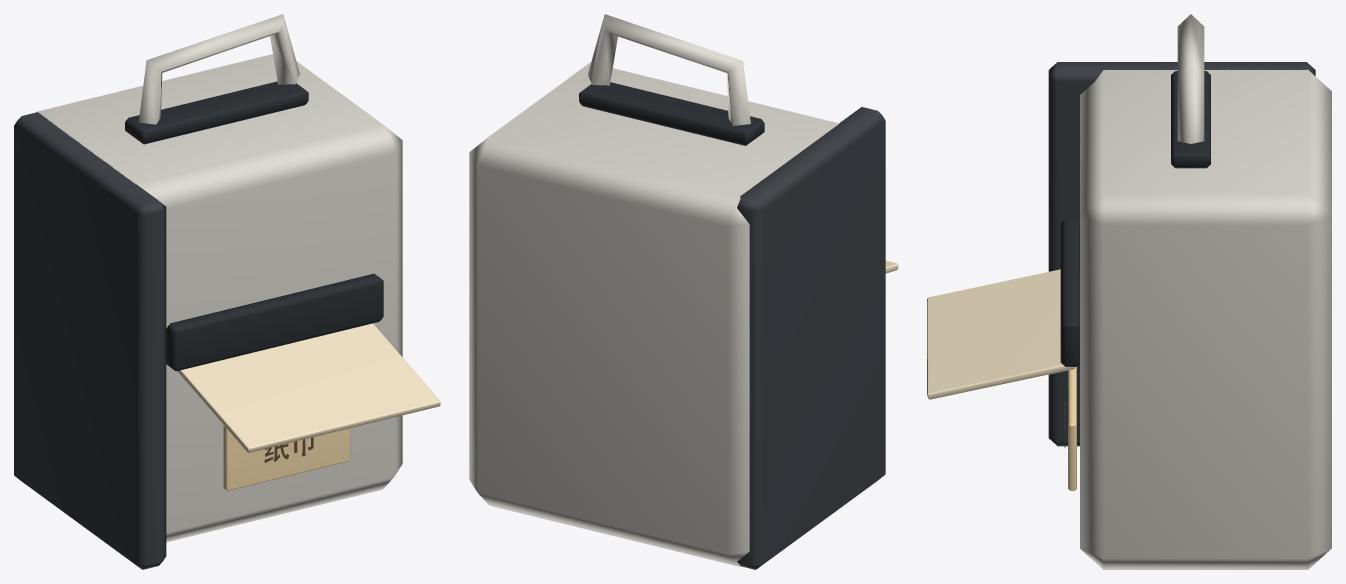
File: tissue_dispenser.fbx
3 renders of one model, left to right at view 1: azimuth 30°, elevation 25°; view 2: azimuth 150°, elevation 25°; view 3: azimuth 270°, elevation 25°, orthographic. The views are drawn at different scales.
Visible parts, largest first — view 1: tissue_dispenser; view 2: tissue_dispenser; view 3: tissue_dispenser.
Part boxes in pixels (<box>): tissue_dispenser: <box>14,14,440,569</box>; tissue_dispenser: <box>469,14,898,569</box>; tissue_dispenser: <box>927,14,1331,569</box>.
Size of the model in its own units: 0.2325 by 0.3513 by 0.273.
